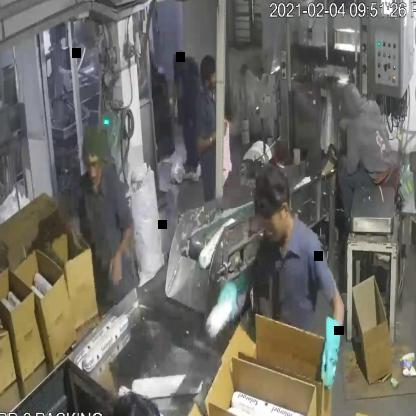glove: (197, 258, 257, 328), (314, 307, 344, 399)
no_glove: (103, 218, 149, 298), (193, 118, 230, 169)
